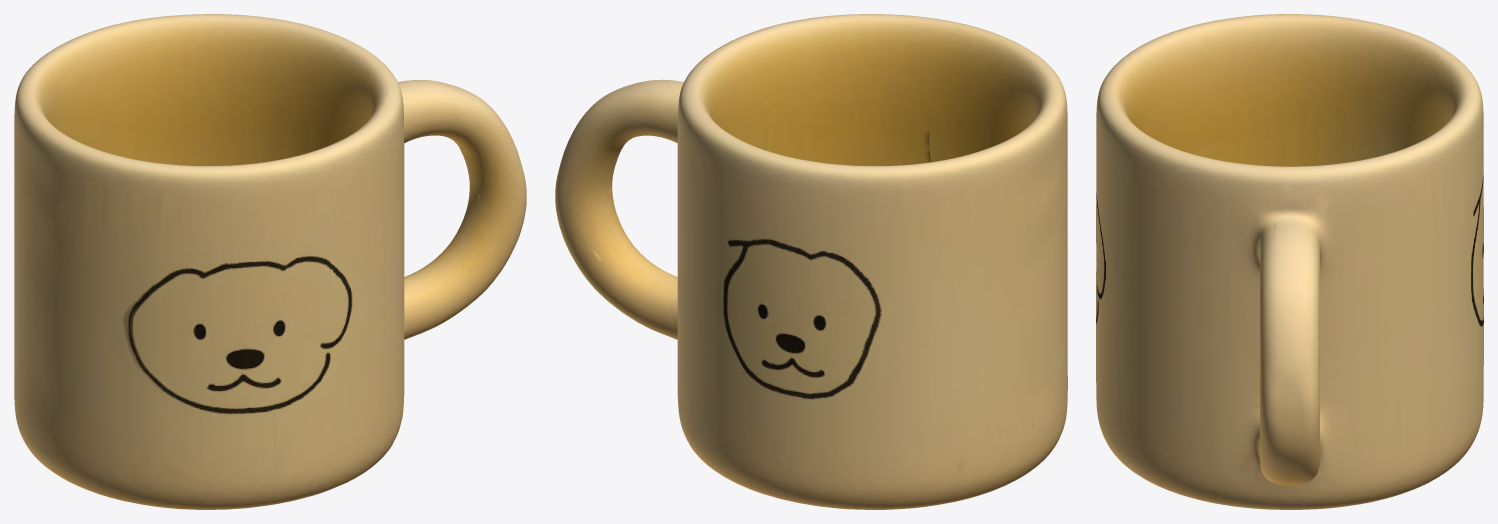
3 renders of one model, left to right at view 1: azimuth 30°, elevation 25°; view 2: azimuth 150°, elevation 25°; view 3: azimuth 270°, elevation 25°, orthographic.
Parts seen in each view (by area): view 1: node_0; view 2: node_0; view 3: node_0.
Boxes of the visible parts, x1,y1,x2,y2 form: node_0: [14, 14, 526, 509]; node_0: [555, 14, 1067, 509]; node_0: [1096, 14, 1483, 509].
Bounding box in the file's own units: 0.9982 × 0.7023 × 0.7023.
Materials: 1 (1 with a texture image).
